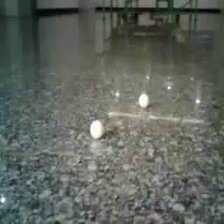w: (89, 120, 106, 140), (138, 93, 149, 108)
